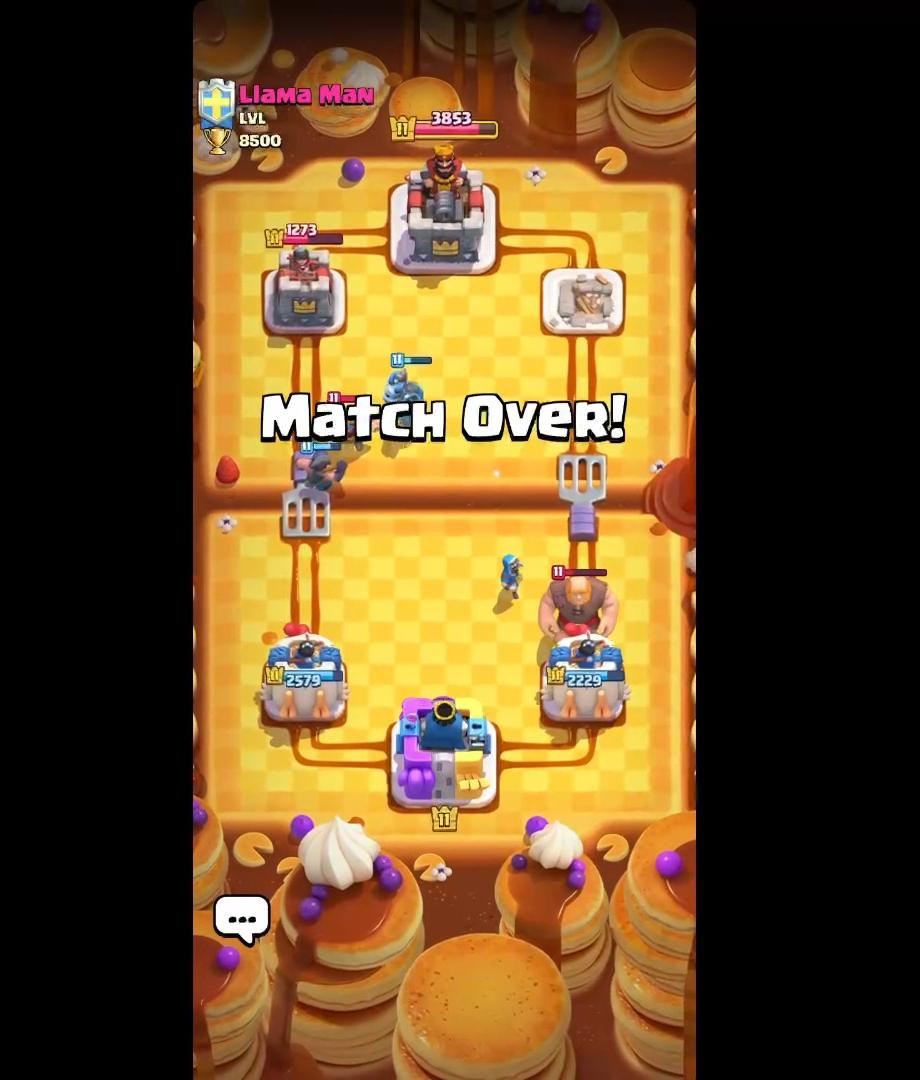Giant: (533, 555, 624, 637)
